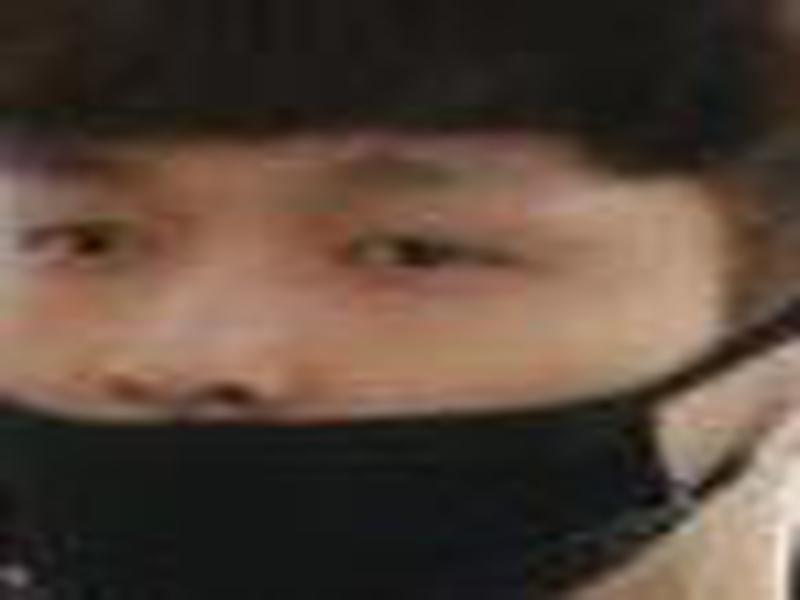with_mask: (1, 15, 793, 600)
